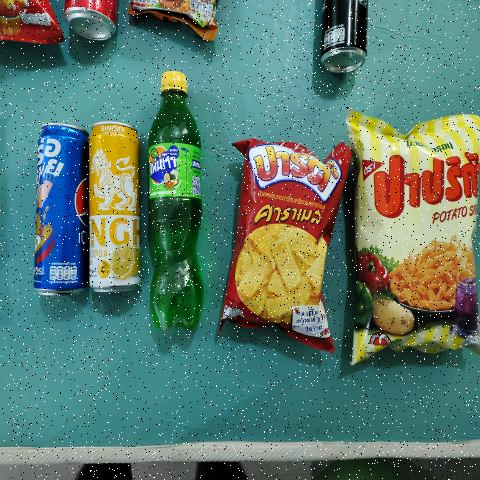fanta_green: (150, 74, 200, 328)
paprika: (356, 130, 476, 346)
party_red: (239, 145, 325, 342)
pepsi_blue: (39, 124, 82, 289)
singha_yellow: (90, 127, 137, 291)
